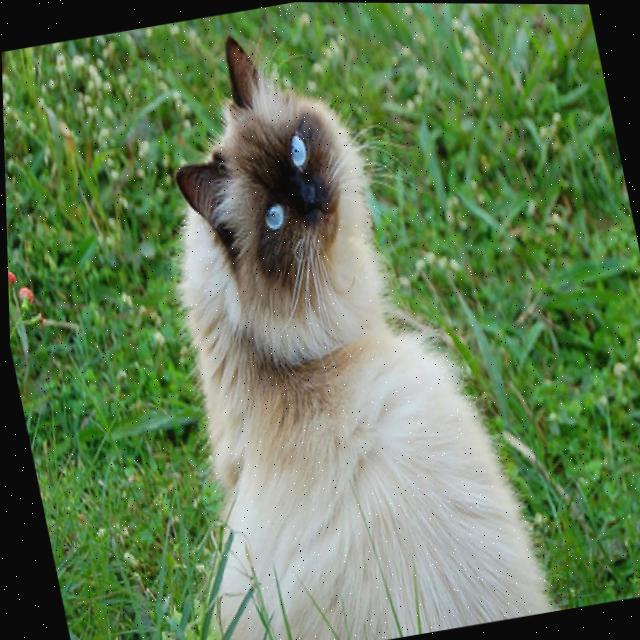Birman: (88, 1, 560, 640)
